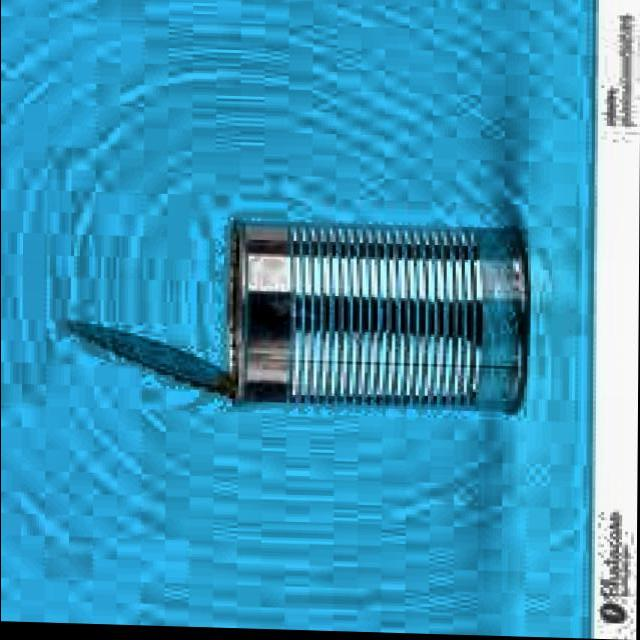Aluminum Can: (49, 209, 542, 419)
